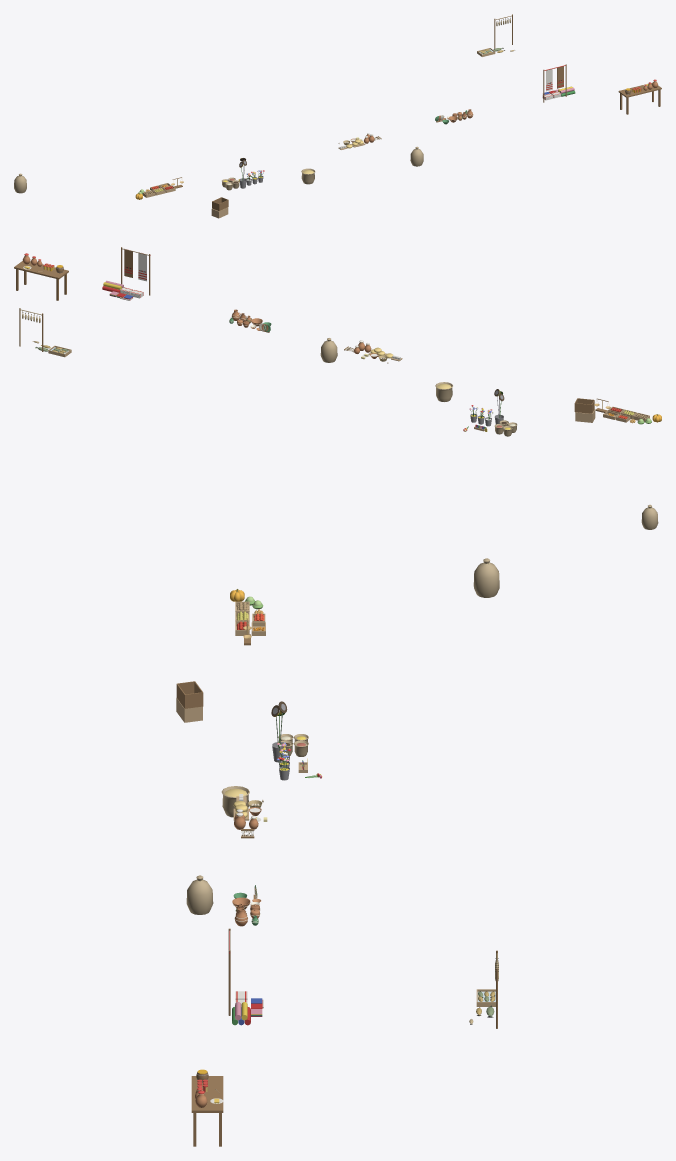
Rendered from bz_goods.glb.
3 renders of one model, top to bottom at view 1: azimuth 30°, elevation 25°; view 2: azimuth 150°, elevation 25°; view 3: azimuth 270°, elevation 25°, orthographic. The views are drawn at different scales.
Visible parts, largest first — view 1: Рушник_на_жердині, Столик_мед, Ящики_стос; view 2: Рушник_на_жердині, Столик_мед, Ящики_стос; view 3: Столик_мед, Ящики_стос, Мішок.001, Мішок.
Boxes of the visible parts, x1,y1,x2,y2 form: Рушник_на_жердині: (543, 64, 566, 102); Столик_мед: (618, 82, 661, 114); Ящики_стос: (211, 197, 228, 218); Рушник_на_жердині: (121, 247, 150, 295); Столик_мед: (14, 261, 68, 300); Ящики_стос: (574, 398, 595, 422); Столик_мед: (191, 1076, 223, 1146); Ящики_стос: (176, 681, 203, 722); Мішок.001: (473, 558, 499, 597); Мішок: (186, 875, 213, 914).
Bounding box in the file's own units: 25.85 × 2.47 × 6.32.
